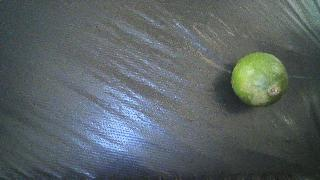DESECHO: (231, 52, 288, 106)
